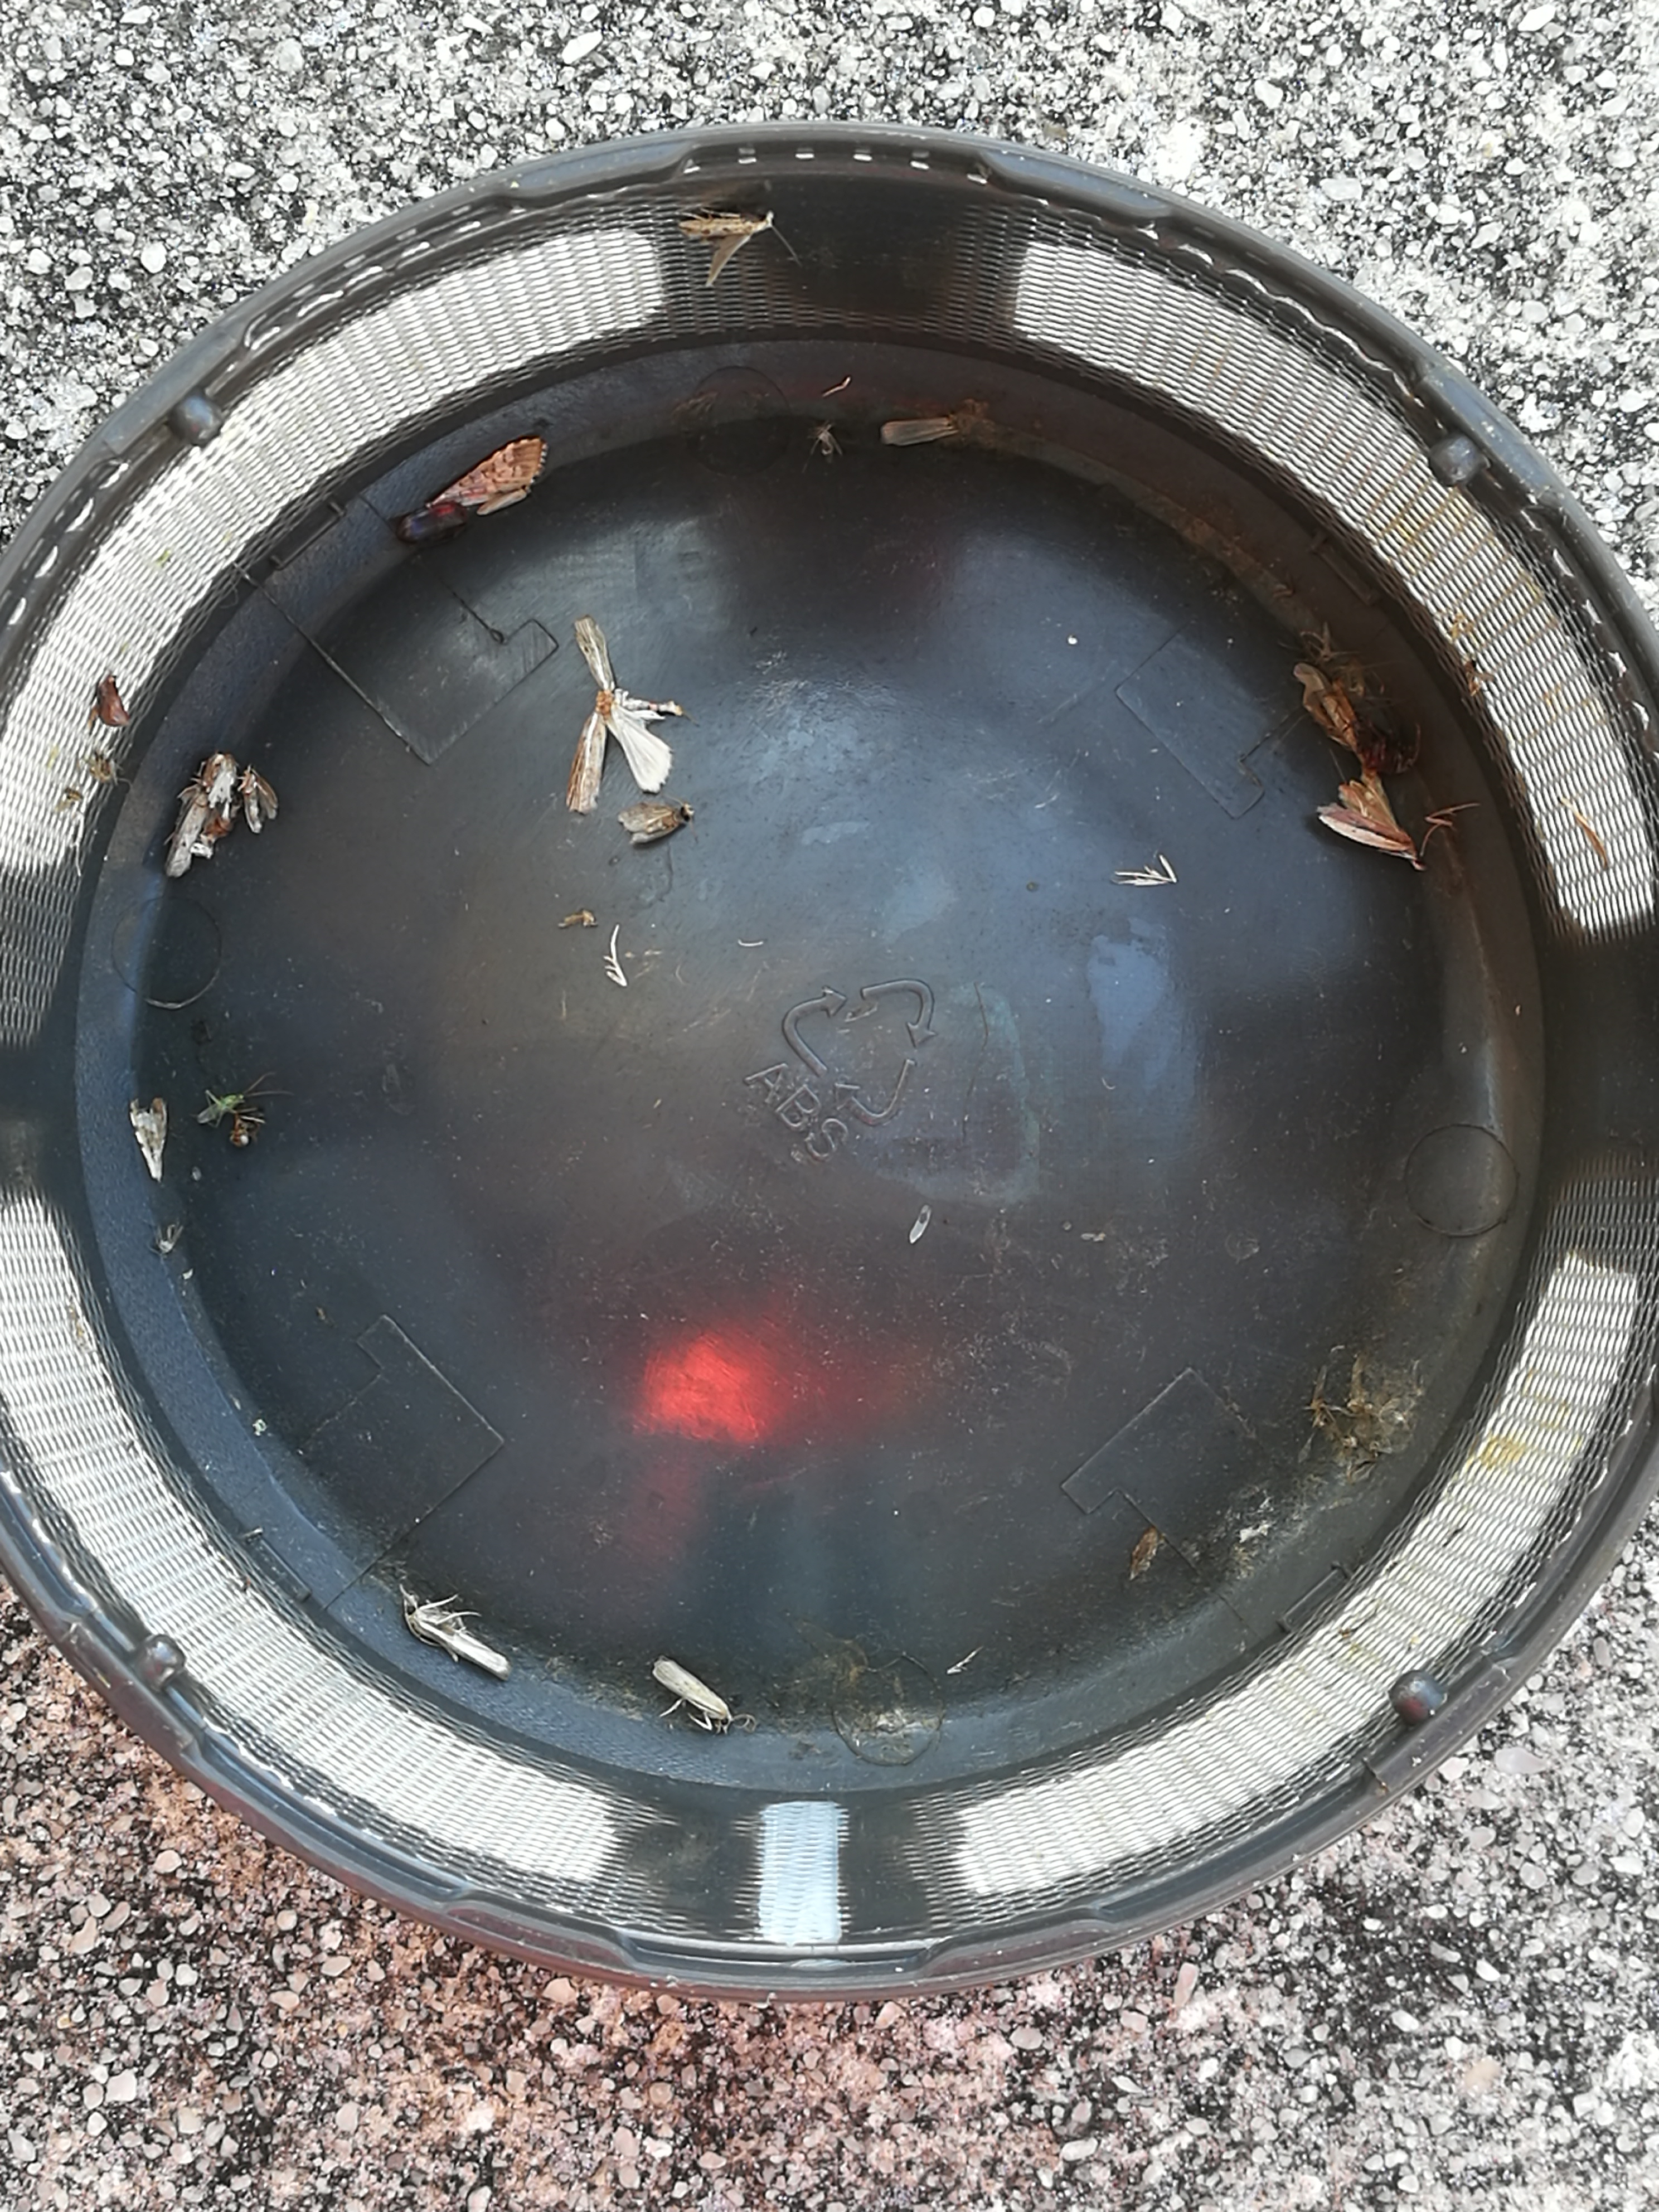mosquito: (401, 1581, 509, 1677), (1293, 662, 1366, 765), (653, 1656, 732, 1728), (166, 779, 211, 876)
moth: (565, 617, 680, 810), (1317, 772, 1425, 871), (678, 209, 772, 287), (617, 806, 692, 845)
